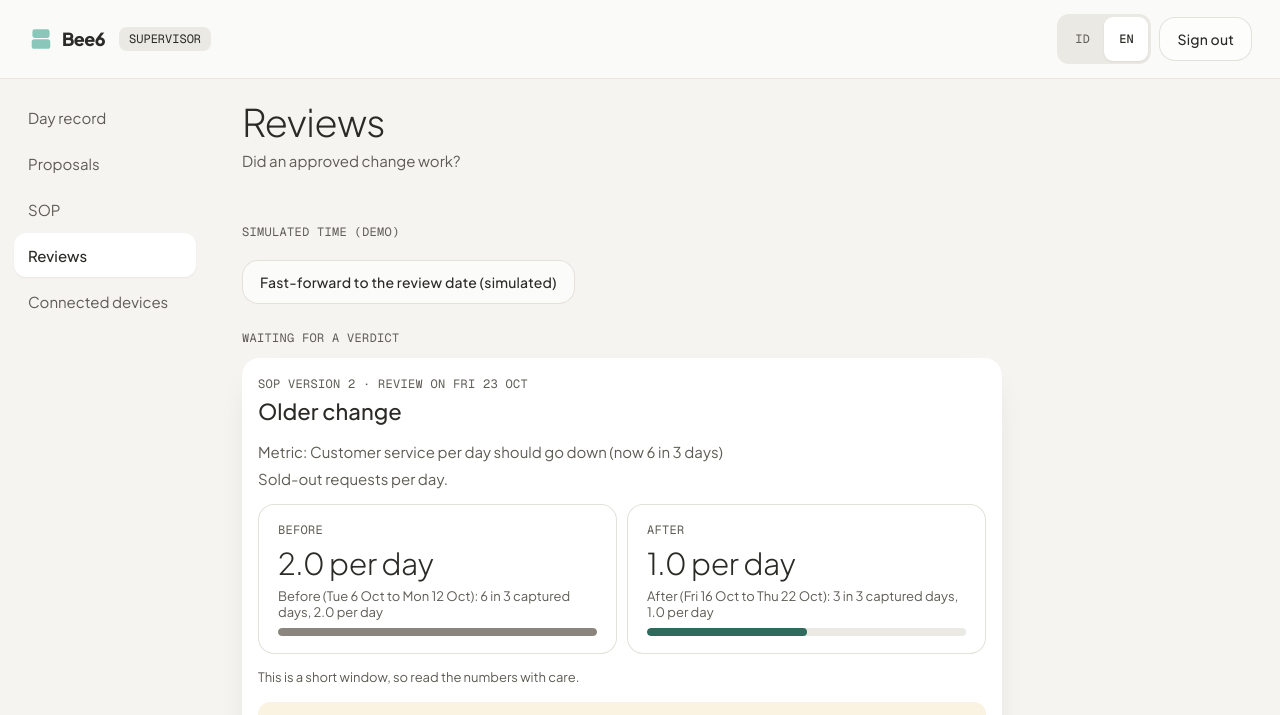
Test: ReviewsApp: a fast-forward result without an explanation › flag on and the new review has no explanation: one notice, on that review only, as a status
Click the button "Fast-forward to the review date (simulated)": {"x": 408, "y": 282} [242,260,575,304]
(page scrolled)
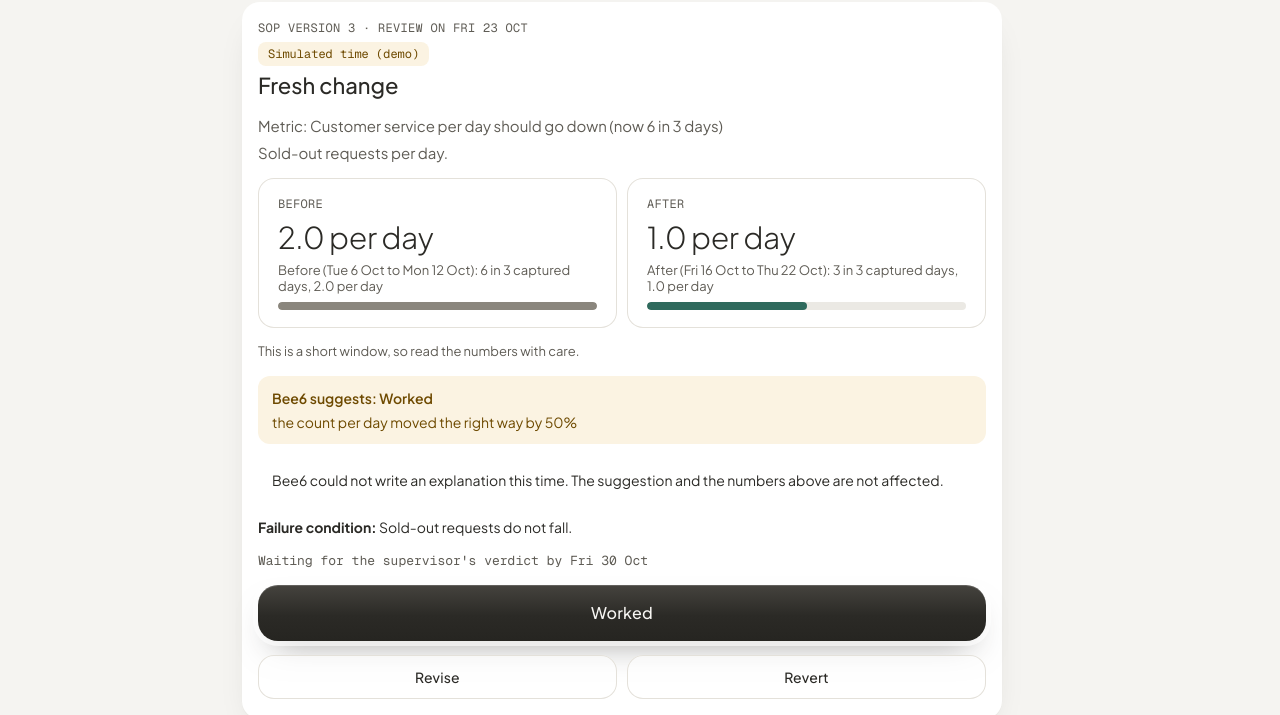
Expected: the text "Older change" does not show "could not write"
Expected: the text "Bee6 could not write an explanation this time. The suggestion and the numbers above are not affected." is shown once, [272,471,944,489]
Expected: the text "Bee6 could not write an explanation this time. The suggestion and the numbers above are not affected." shows "Fresh change", [258,71,399,99]
